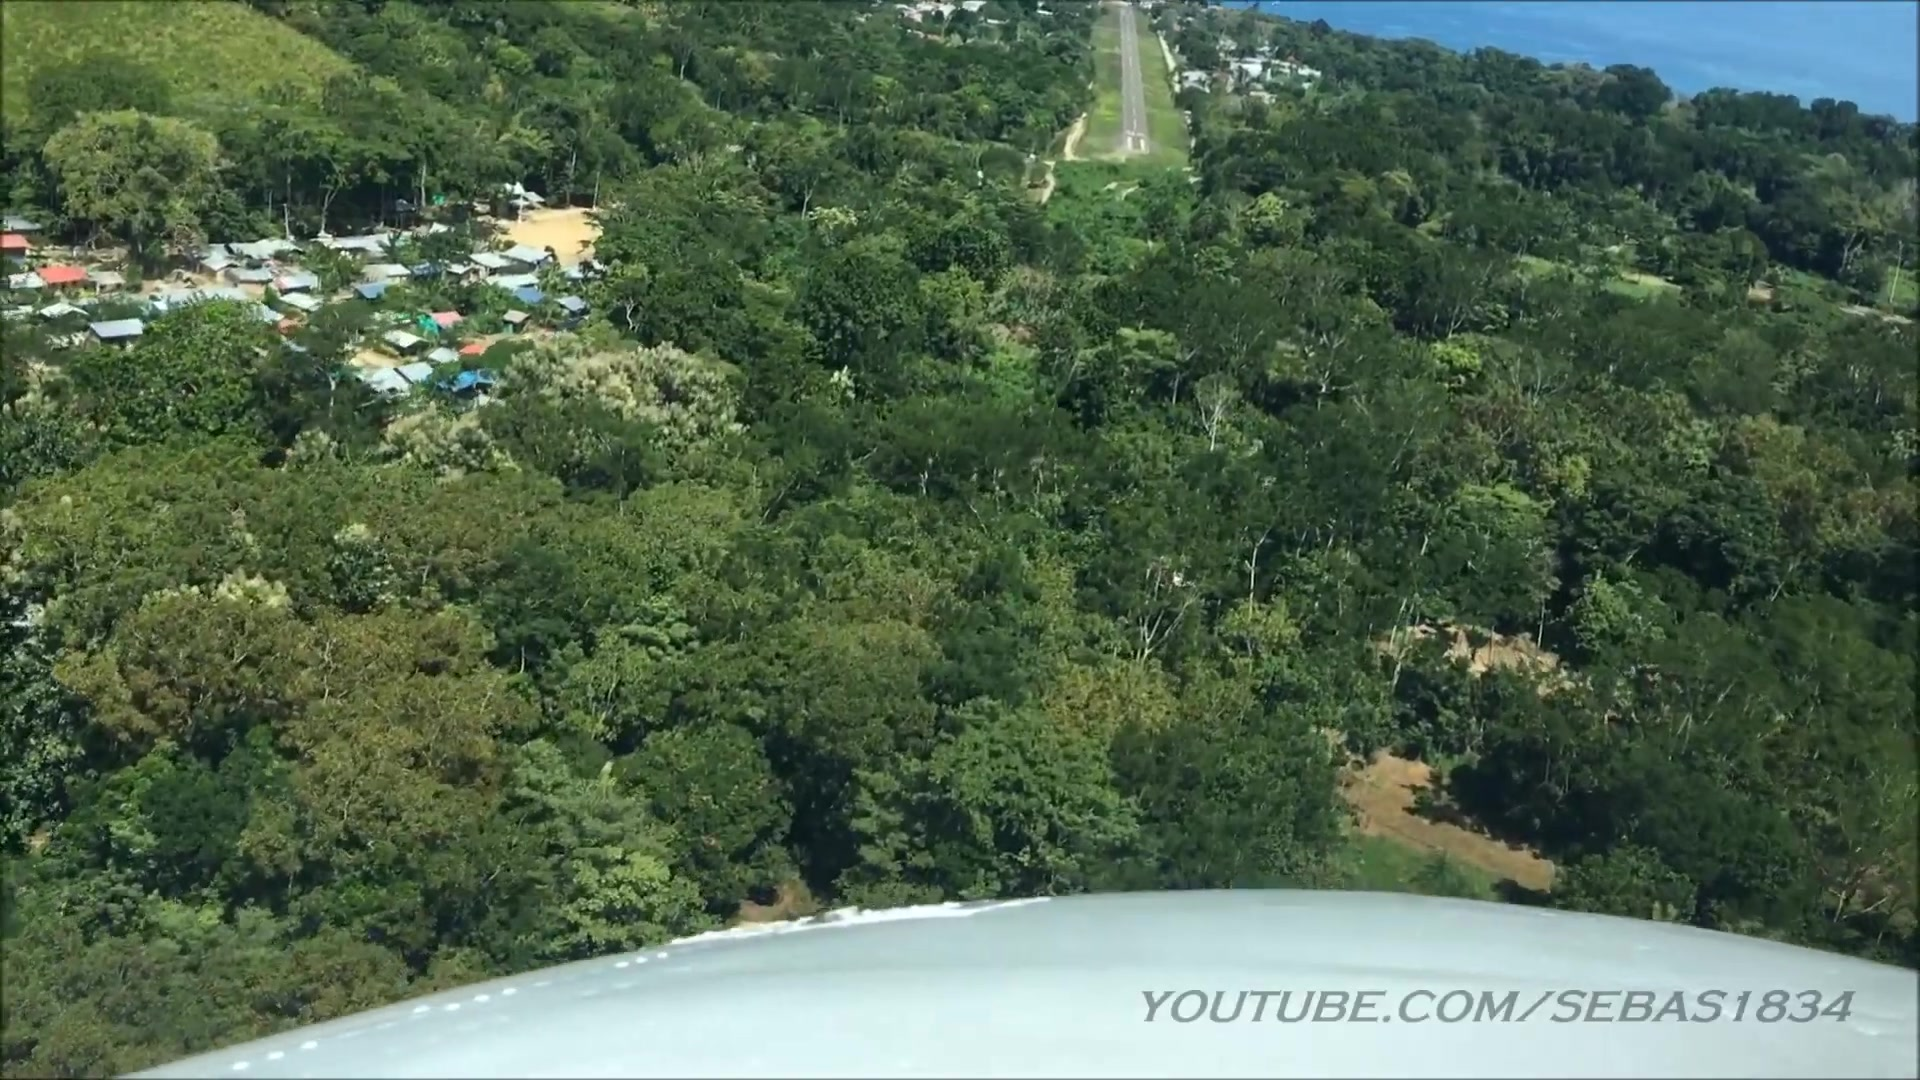runway: (1117, 7, 1153, 154)
